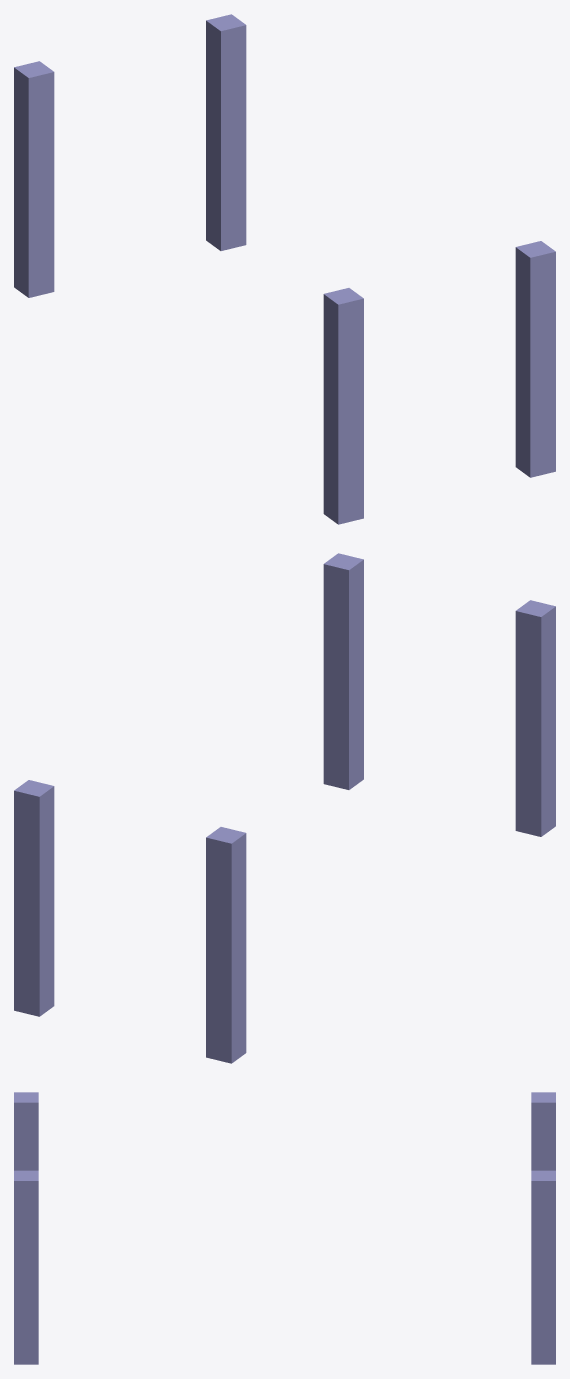
The model's file is PDCTableLeg.gltf.
3 views of the same model, one above another, from view 1: azimuth 30°, elevation 25°; view 2: azimuth 150°, elevation 25°; view 3: azimuth 270°, elevation 25° (orthographic). The views are drawn at different scales.
Visible parts, largest first — view 1: logicPDCTableLeg_pv0x21cf7f0, logicPDCTableLeg_pv0x21cf828, logicPDCTableLeg_pv0x21cf860, logicPDCTableLeg_pv0x21cf898; view 2: logicPDCTableLeg_pv0x21cf7f0, logicPDCTableLeg_pv0x21cf828, logicPDCTableLeg_pv0x21cf860, logicPDCTableLeg_pv0x21cf898; view 3: logicPDCTableLeg_pv0x21cf860, logicPDCTableLeg_pv0x21cf898, logicPDCTableLeg_pv0x21cf7f0, logicPDCTableLeg_pv0x21cf828.
Boxes of the visible parts, x1=… form: logicPDCTableLeg_pv0x21cf7f0: x1=14, y1=61, x2=54, y2=297; logicPDCTableLeg_pv0x21cf828: x1=323, y1=288, x2=363, y2=524; logicPDCTableLeg_pv0x21cf860: x1=206, y1=14, x2=246, y2=250; logicPDCTableLeg_pv0x21cf898: x1=515, y1=241, x2=555, y2=477; logicPDCTableLeg_pv0x21cf7f0: x1=206, y1=827, x2=246, y2=1063; logicPDCTableLeg_pv0x21cf828: x1=515, y1=600, x2=555, y2=836; logicPDCTableLeg_pv0x21cf860: x1=14, y1=780, x2=54, y2=1016; logicPDCTableLeg_pv0x21cf898: x1=323, y1=553, x2=363, y2=789; logicPDCTableLeg_pv0x21cf860: x1=531, y1=1170, x2=555, y2=1364; logicPDCTableLeg_pv0x21cf898: x1=14, y1=1170, x2=38, y2=1364; logicPDCTableLeg_pv0x21cf7f0: x1=531, y1=1092, x2=555, y2=1170; logicPDCTableLeg_pv0x21cf828: x1=14, y1=1092, x2=38, y2=1170.
Size of the model in its own units: 128 by 123 by 329.
